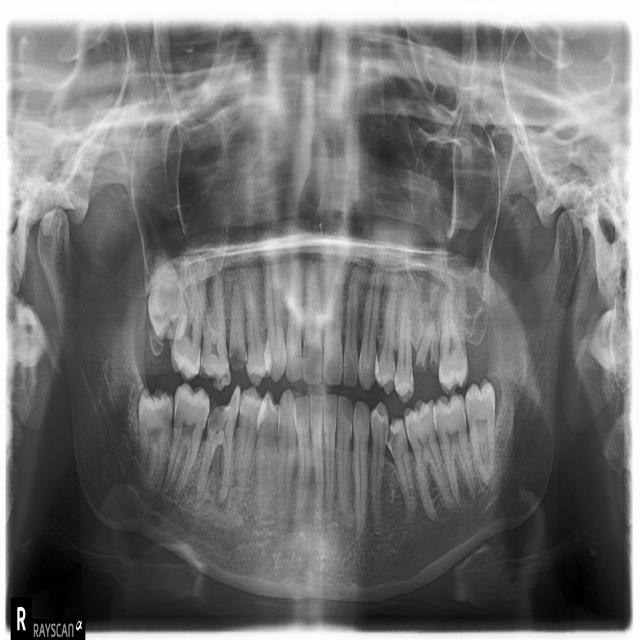mandibula: (38, 209, 583, 599)
